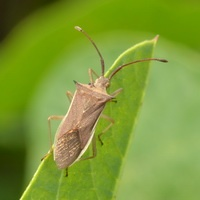insect: (53, 26, 167, 175)
